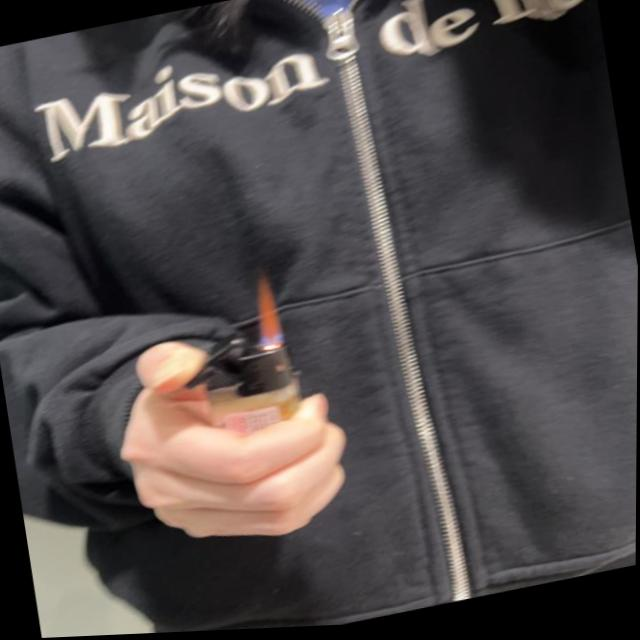Fire: (247, 263, 288, 355)
